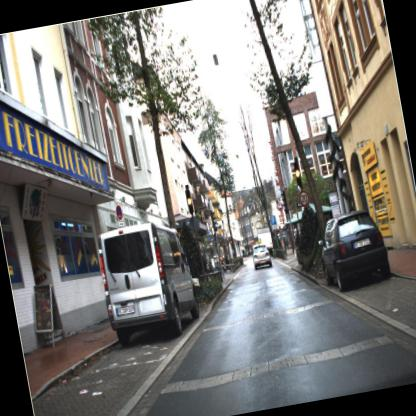prohibitory: (296, 187, 310, 207)
